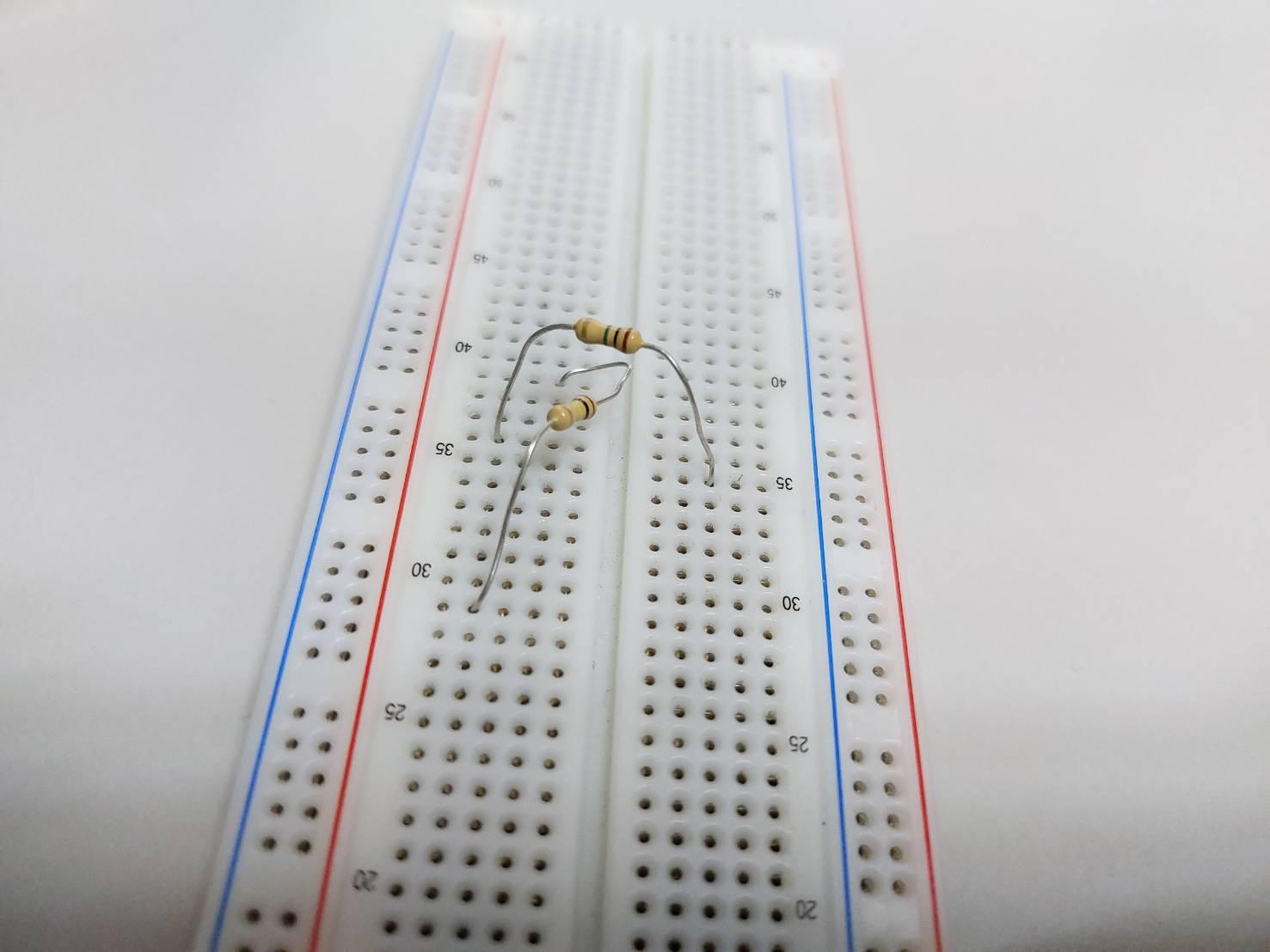resistor: (575, 317, 642, 355), (547, 394, 598, 430)
